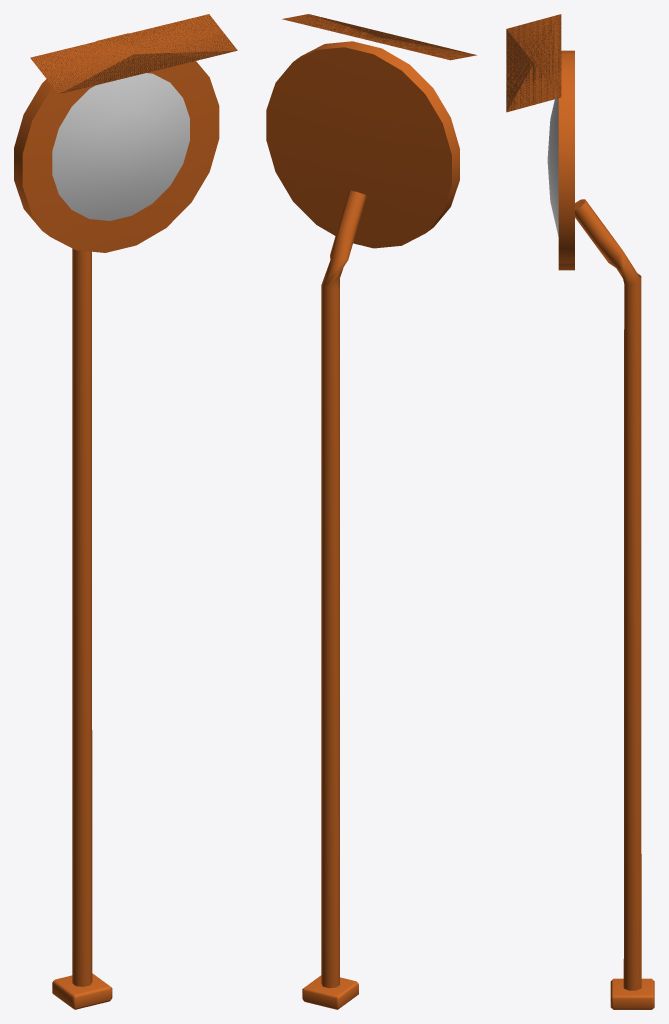
File: MirrorKM.fbx
3 renders of one model, left to right at view 1: azimuth 30°, elevation 25°; view 2: azimuth 150°, elevation 25°; view 3: azimuth 270°, elevation 25°, orthographic. The views are drawn at different scales.
Visible parts, largest first — view 1: MirrorKM; view 2: MirrorKM; view 3: MirrorKM.
Part boxes in pixels (x1,y1,x2,y2): MirrorKM: (14,14,237,1009); MirrorKM: (266,14,476,1009); MirrorKM: (506,14,654,1009).
Size of the model in its own units: 0.7902 by 3.8 by 0.54.
